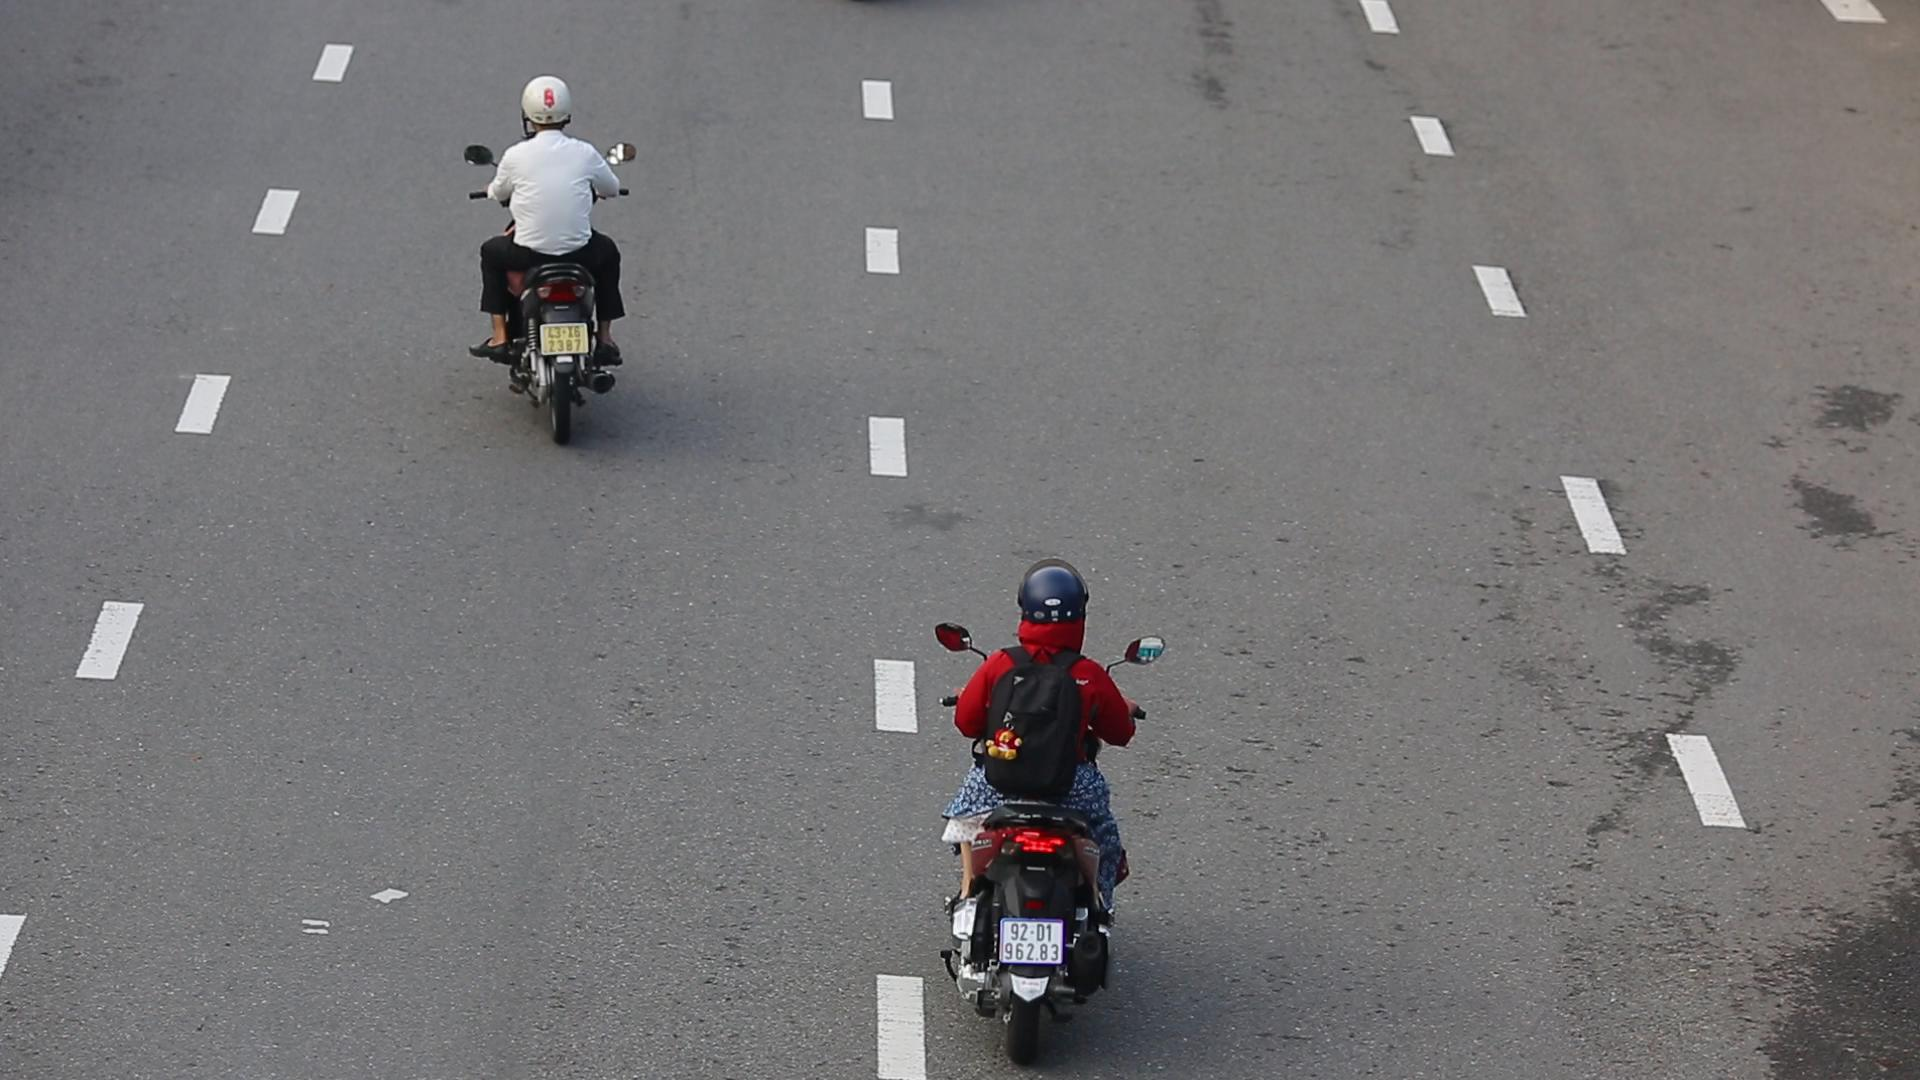motobike: (947, 554, 1166, 1062), (460, 62, 634, 459)
